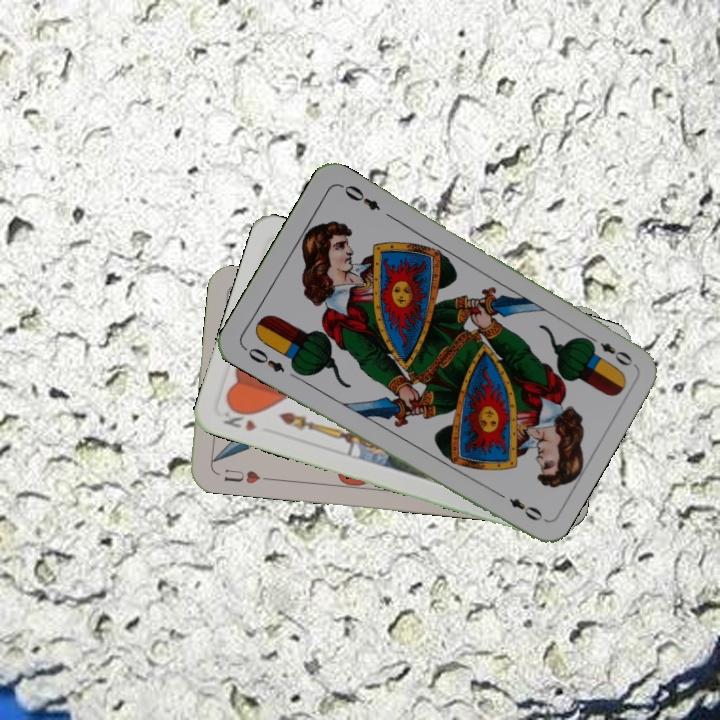EO: (582, 331, 636, 369), (239, 343, 288, 375)
HK: (219, 402, 259, 434)
HU: (220, 465, 263, 487)
